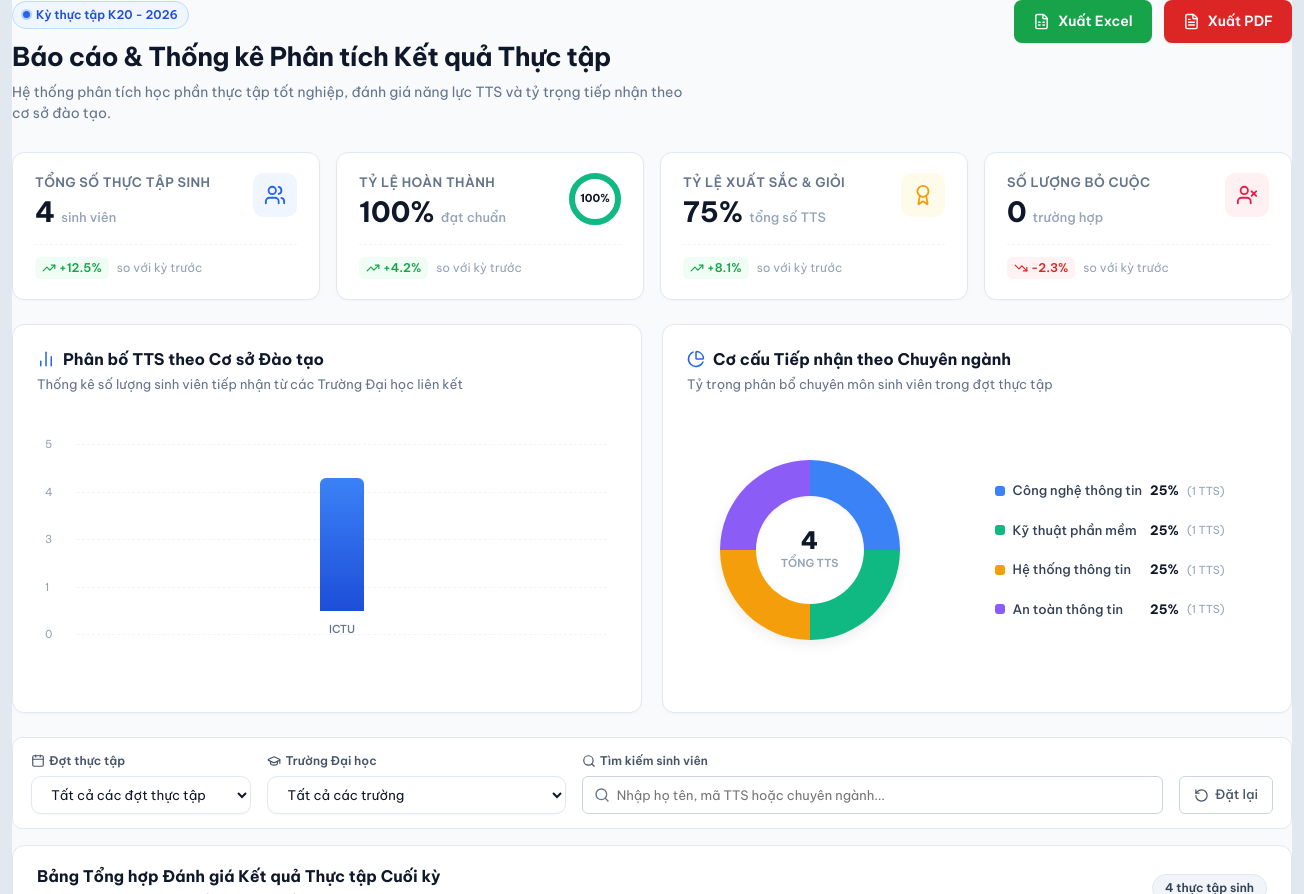
HRAnalyticsDashboard Component Test Suite › 2. Bộ lọc tìm kiếm hoạt động chính xác khi tìm theo tên hoặc mã TTS
Type "Mai Phương" into the field with placeholder "Nhập họ tên, mã TTS hoặc chuyên ngành..." at [872, 795], box top-left (582, 776), bottom-right (1163, 814)
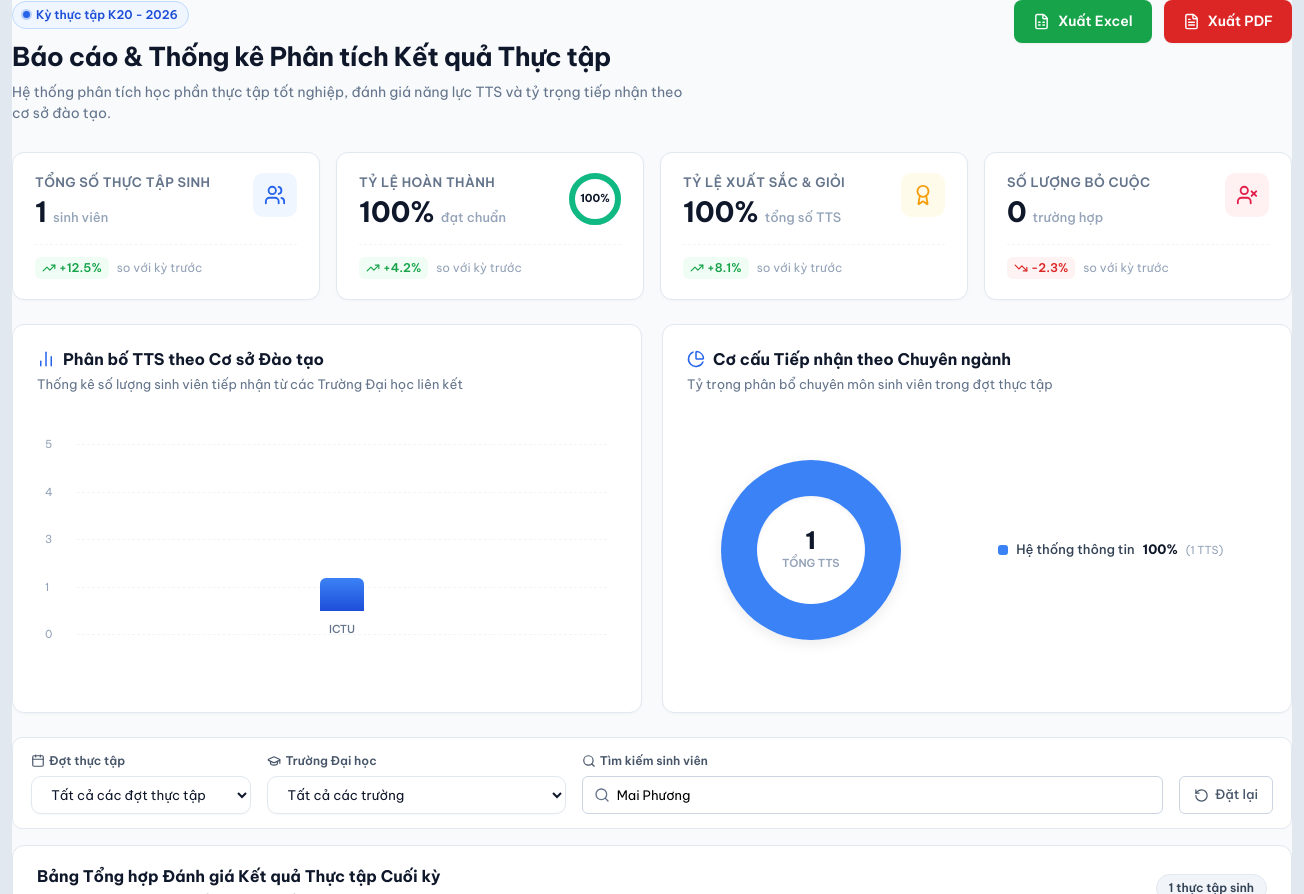
// Đặt lại tìm kiếm
Click the button "Đặt lại" at [1226, 795], box top-left (1179, 776), bottom-right (1273, 814)
(page scrolled)
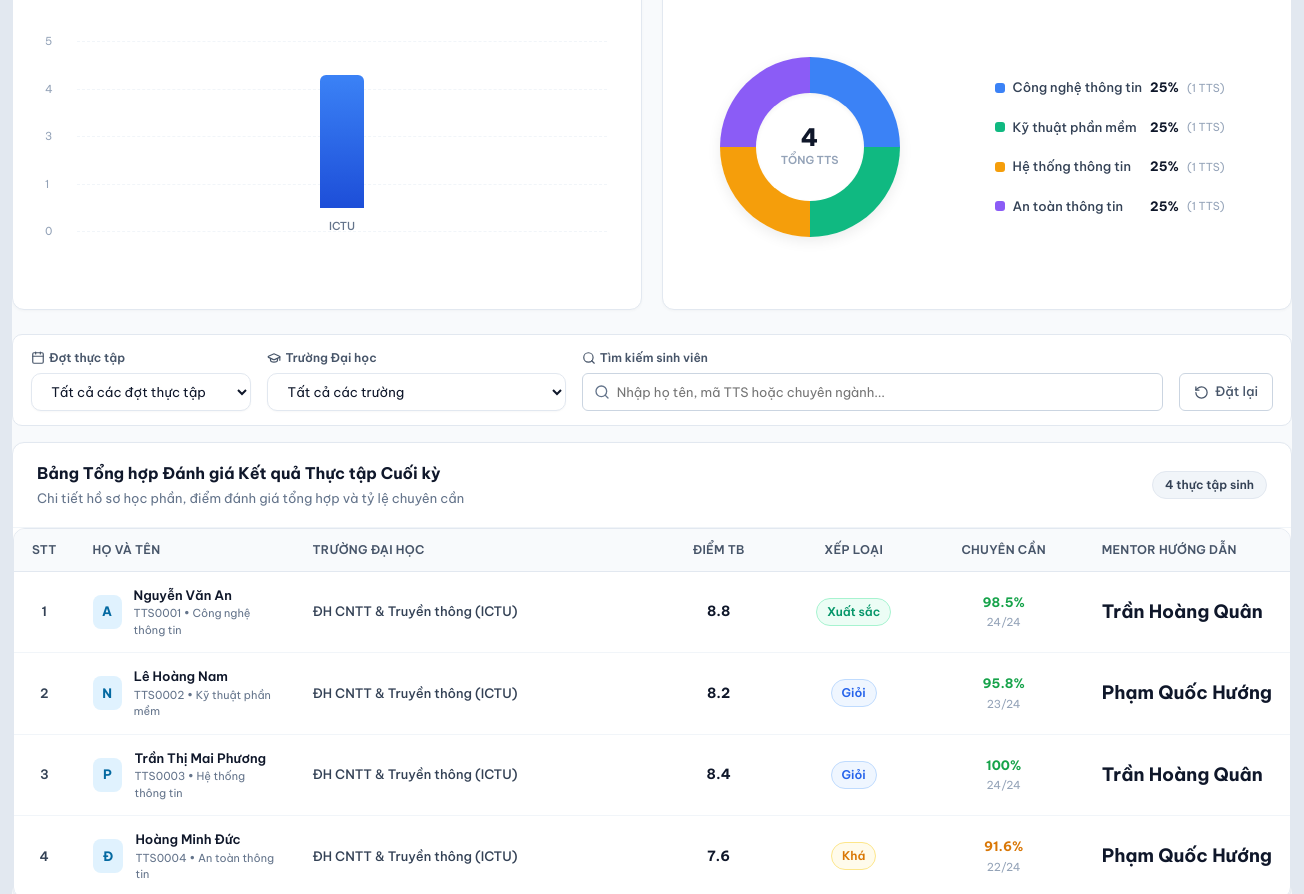
expect the text "Nguyễn Văn An" is shown: met, box top-left (134, 586), bottom-right (232, 602)
expect the text "Hoàng Minh Đức" is shown: met, box top-left (136, 831), bottom-right (241, 847)
